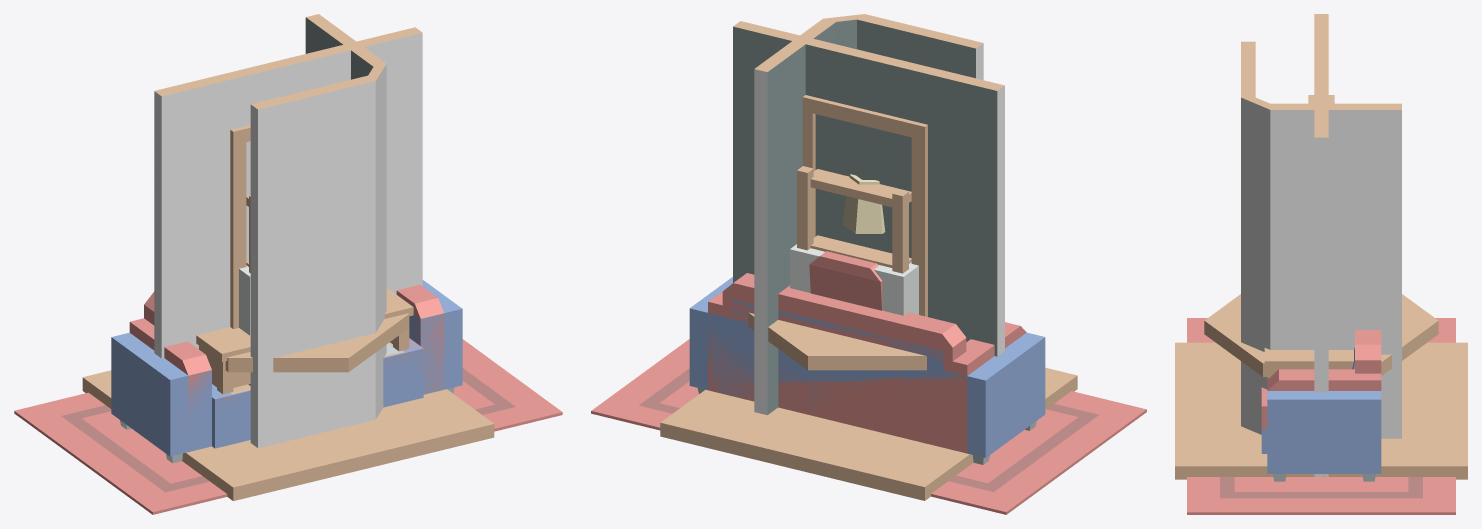
The model's file is furniture.glb.
3 views of the same model, side by side, from view 1: azimuth 30°, elevation 25°; view 2: azimuth 150°, elevation 25°; view 3: azimuth 270°, elevation 25° (orthographic). The views are drawn at different scales.
Parts seen in each view (by area): view 1: wallCorner(Clone), wall(Clone), wallWindow(Clone), loungeDesignSofa(Clone), floorFull(Clone), rugRectangle(Clone), loungeSofa(Clone), tableRound(Clone), desk(Clone), kitchenFridgeSmall(Clone); view 2: wall(Clone), wallCorner(Clone), loungeSofa(Clone), wallWindow(Clone), loungeDesignSofa(Clone), floorFull(Clone), rugRectangle(Clone), bookcaseOpen(Clone), tableRound(Clone), loungeChair(Clone), chair, kitchenFridgeSmall(Clone) (+1 smaller); view 3: wallCorner(Clone), floorFull(Clone), rugRectangle(Clone), loungeDesignSofa(Clone), wall(Clone), tableRound(Clone), loungeSofa(Clone), desk(Clone).
Boxes of the visible parts, x1,y1,x2,y2 form: wallCorner(Clone): (250,14,386,448); wall(Clone): (154,27,422,358); wallWindow(Clone): (161,33,422,357); loungeDesignSofa(Clone): (111,280,462,463); floorFull(Clone): (82,370,494,500); rugRectangle(Clone): (14,339,562,514); loungeSofa(Clone): (129,285,444,425); tableRound(Clone): (225,313,408,372); desk(Clone): (196,288,413,394); kitchenFridgeSmall(Clone): (239,265,250,335); wall(Clone): (733,21,1004,356); wallCorner(Clone): (754,14,983,415); loungeSofa(Clone): (708,273,1026,453); wallWindow(Clone): (733,27,997,355); loungeDesignSofa(Clone): (689,277,1045,464); floorFull(Clone): (660,367,1077,500); rugRectangle(Clone): (591,339,1146,514); bookcaseOpen(Clone): (797,166,911,273); tableRound(Clone): (748,312,926,370); loungeChair(Clone): (778,292,901,436); chair: (809,251,882,310); kitchenFridgeSmall(Clone): (790,244,918,315); wallCorner(Clone): (1241,41,1401,438); floorFull(Clone): (1175,342,1467,479); rugRectangle(Clone): (1187,318,1455,514); loungeDesignSofa(Clone): (1261,347,1381,481); wall(Clone): (1314,14,1328,476); tableRound(Clone): (1204,294,1438,376); loungeSofa(Clone): (1261,330,1381,428); desk(Clone): (1264,348,1353,378).
Size of the model in its own units: 1.57 by 1.29 by 1.
